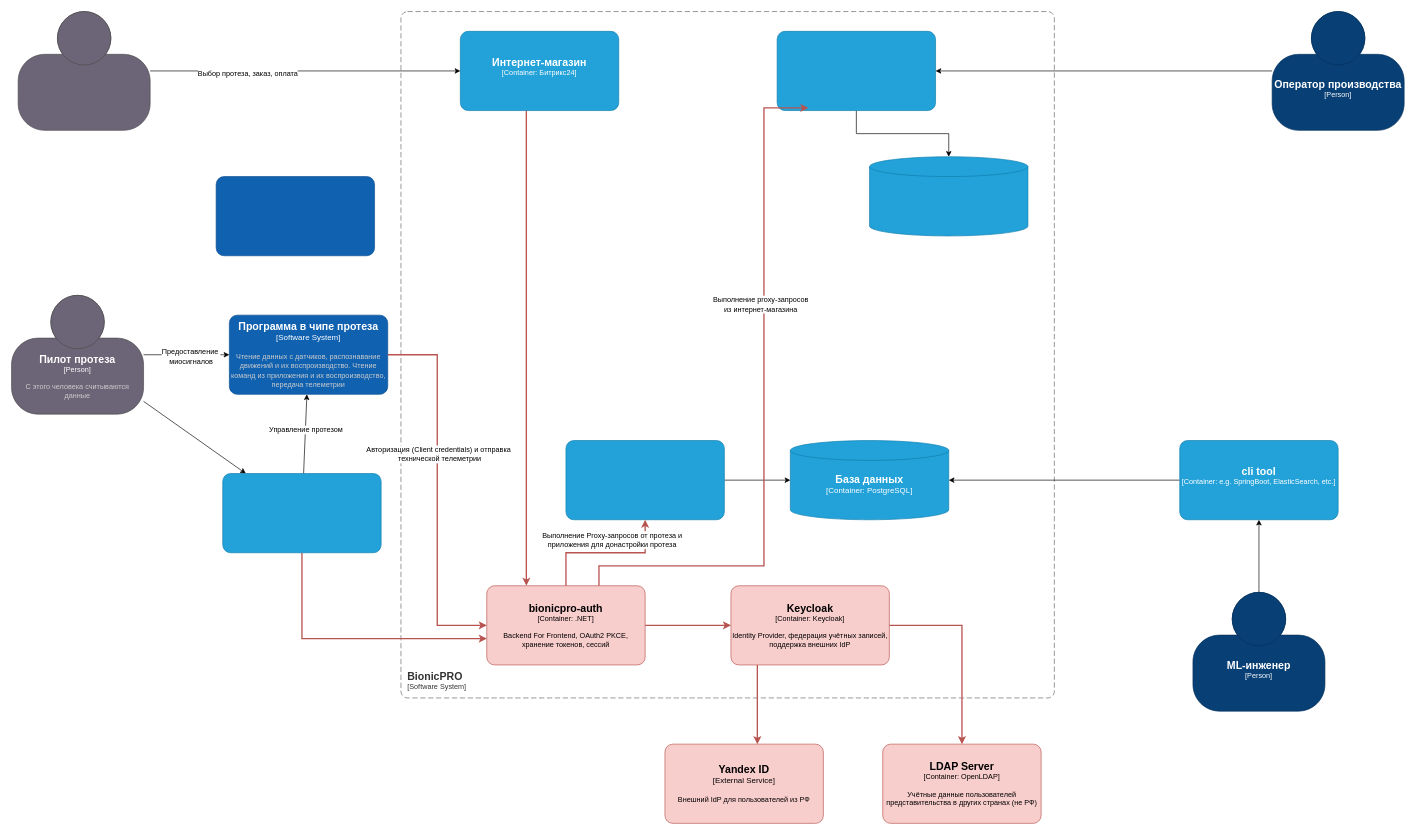
The diagram is 1416 pixels wide and 835 high, and some of its shapes have lost their labels. The centre of each missing label's shape, as x and y in pixels:
API [Container: e.g. SpringBoot, ElasticSearch, etc.]: [644,480]
CRM [Container: Битрикс24]: [856,71]
CRM DB [Container: e.g. Oracle Database 12]: [948,196]
System name [Software System] Description of software system.: [295,216]
Покупатель протеза [Person]: [83,70]
Приложение для донастройки протеза [Container: iOD, Android]: [301,513]
